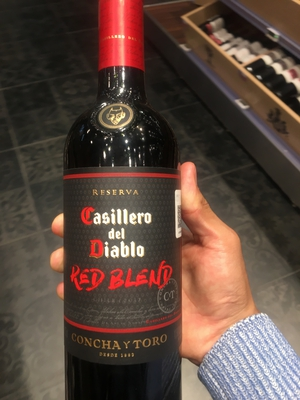casillero del diablo red blend: (56, 6, 199, 400)
